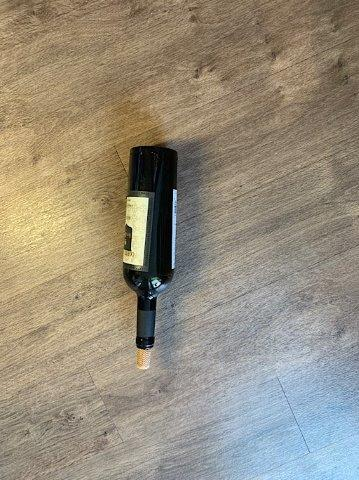botolkaca: (123, 146, 177, 367)
